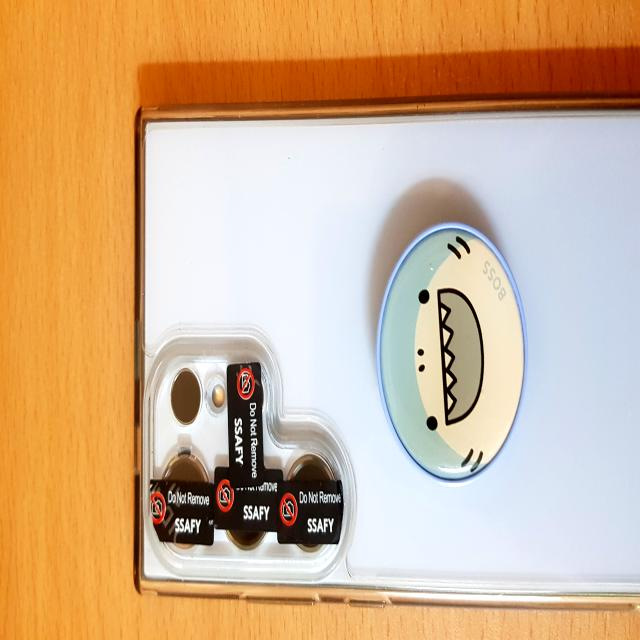phone: (132, 92, 640, 610)
removed_sticker: (149, 476, 193, 543)
sticker: (278, 482, 346, 545), (227, 363, 264, 477), (215, 466, 283, 528)
